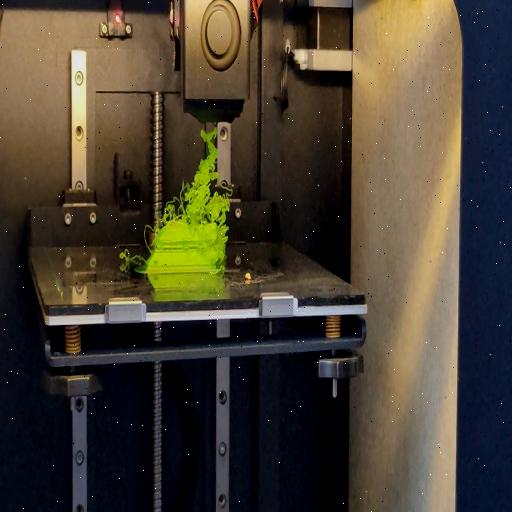spaghetti: (162, 130, 228, 232), (216, 236, 231, 275), (117, 250, 143, 266), (143, 218, 155, 250)
